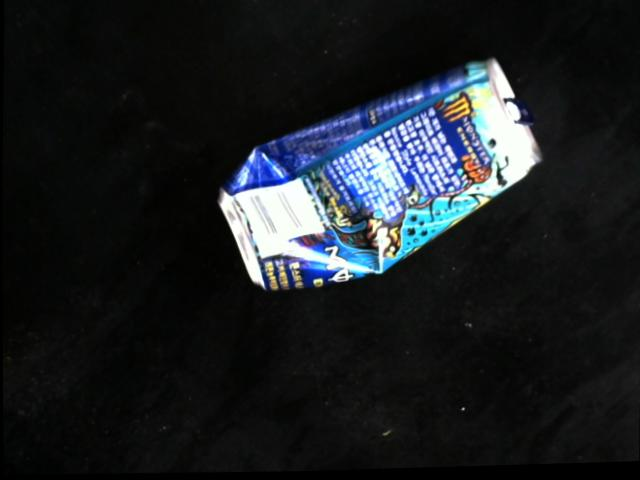can: (213, 57, 551, 298)
